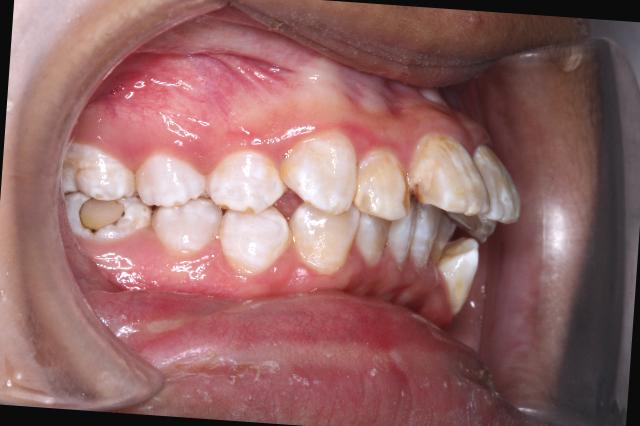canine class II 1/2: (214, 115, 367, 289)
molar class I: (54, 139, 156, 249)
